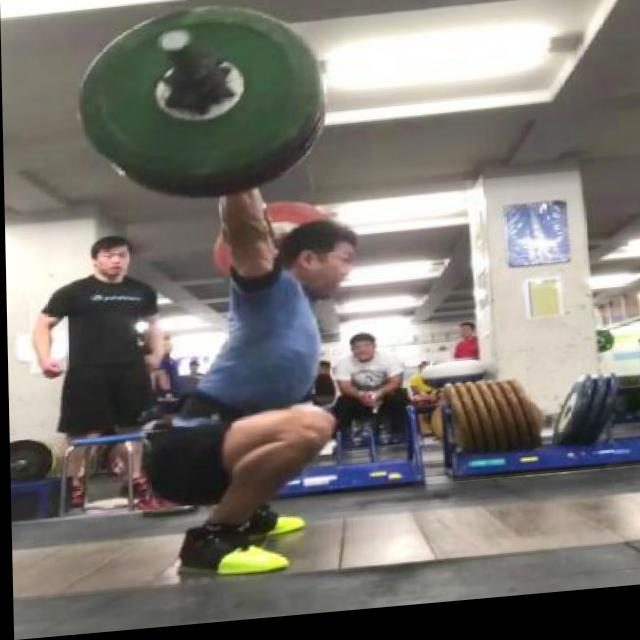barbell: (71, 1, 326, 199)
